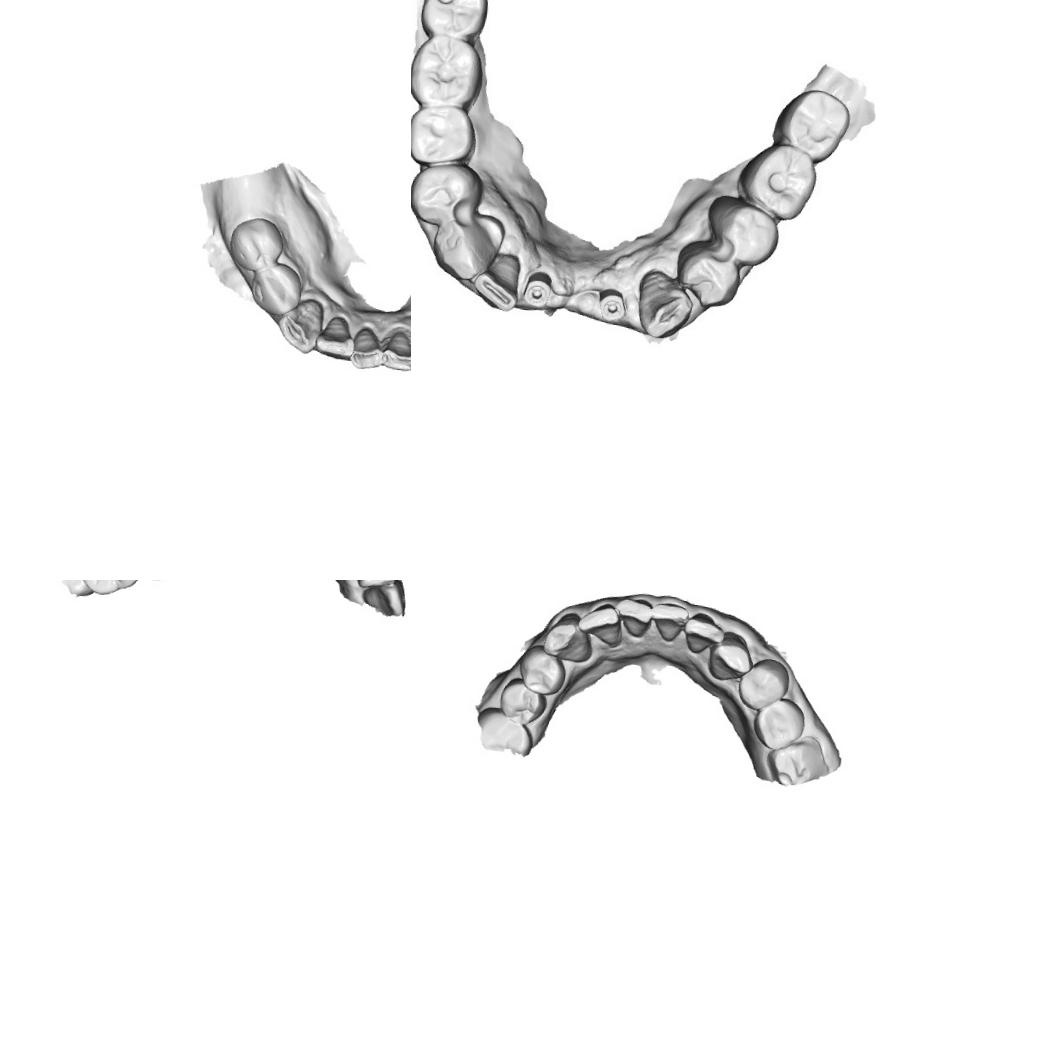canine: (430, 213, 503, 282), (631, 270, 698, 342), (273, 293, 326, 356), (538, 610, 594, 665), (706, 630, 756, 684)
implant_plus: (591, 284, 632, 329), (521, 273, 556, 310)
incisor: (474, 250, 526, 309), (312, 311, 360, 362), (575, 600, 625, 648), (680, 610, 726, 656), (348, 322, 388, 374), (648, 599, 690, 644), (612, 596, 654, 640), (377, 325, 411, 374), (359, 580, 406, 615), (355, 580, 395, 591)
molar: (730, 139, 816, 223), (762, 84, 850, 166), (411, 29, 483, 113), (412, 0, 490, 43), (73, 580, 143, 597)
premolar: (701, 190, 782, 262), (411, 158, 482, 228), (670, 239, 738, 308), (222, 212, 288, 274), (411, 102, 473, 168), (244, 258, 307, 320), (735, 654, 792, 713), (750, 695, 806, 752), (514, 642, 568, 697), (495, 674, 549, 727)
